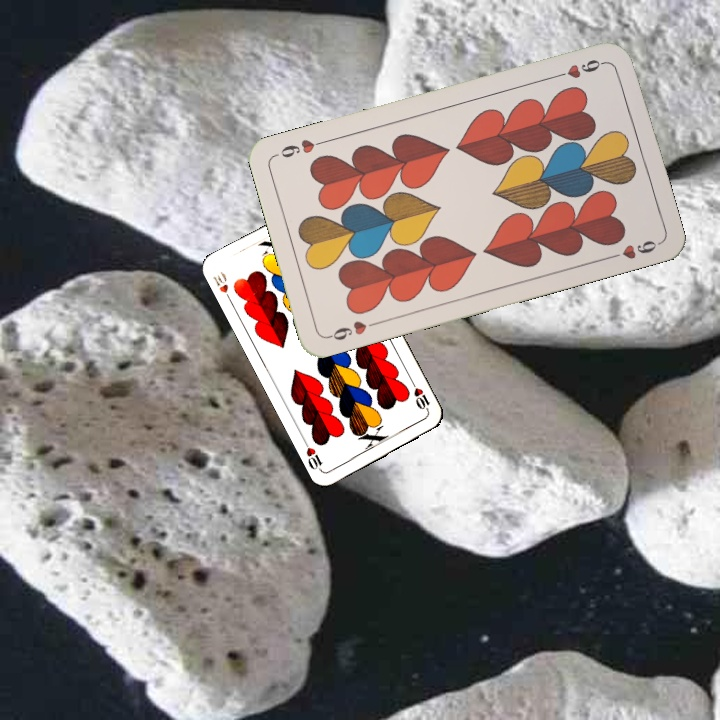H10: (209, 267, 235, 306), (408, 377, 432, 415)
H9: (323, 316, 381, 343), (551, 55, 609, 81)
